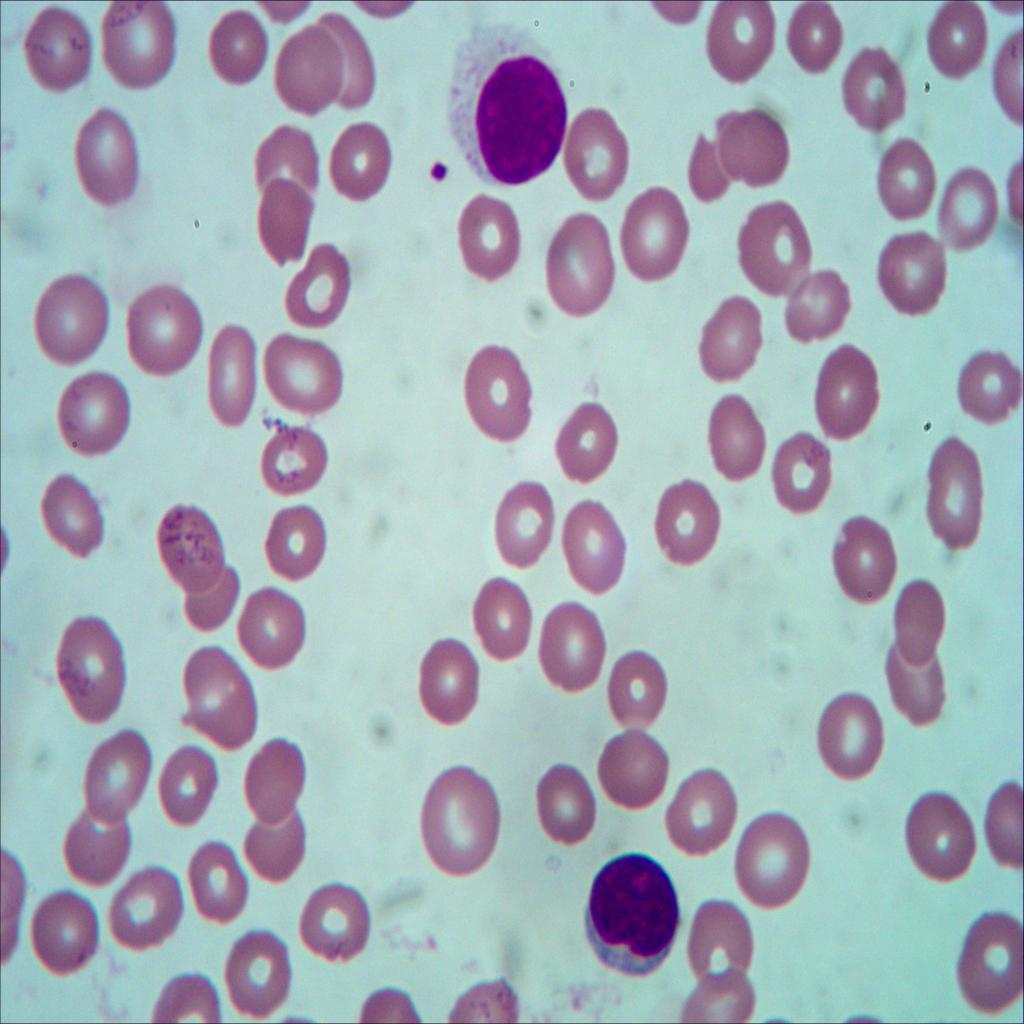Eritrosit: (412, 768, 511, 878), (726, 189, 812, 303), (540, 206, 617, 333), (917, 428, 989, 558), (56, 603, 130, 728), (127, 260, 199, 387), (820, 503, 905, 609), (805, 338, 887, 447), (62, 104, 144, 212), (620, 182, 699, 292), (684, 289, 770, 390), (646, 466, 722, 579), (858, 130, 949, 224), (875, 217, 958, 319), (262, 324, 350, 420), (185, 641, 258, 755), (899, 785, 979, 888), (590, 722, 672, 822), (92, 2, 183, 92), (737, 814, 815, 918), (813, 687, 886, 796), (534, 594, 613, 694), (411, 634, 480, 747), (464, 343, 537, 449), (18, 0, 100, 94), (28, 276, 114, 365), (832, 38, 918, 127), (102, 861, 183, 955), (204, 310, 259, 446), (220, 926, 296, 1024), (959, 902, 1024, 1016), (306, 6, 374, 114), (776, 256, 849, 356), (562, 104, 636, 202), (719, 108, 799, 198), (464, 577, 538, 674), (228, 593, 312, 676), (686, 888, 756, 986), (33, 886, 101, 986), (65, 366, 127, 474), (934, 170, 1008, 260), (298, 880, 372, 969), (598, 642, 672, 731), (80, 722, 150, 816), (531, 755, 598, 853), (557, 390, 623, 488), (674, 766, 743, 859), (493, 474, 555, 577), (240, 733, 308, 826), (250, 173, 320, 263), (455, 194, 525, 284), (705, 0, 768, 100), (561, 500, 628, 594), (197, 10, 276, 89), (159, 496, 222, 594), (188, 843, 260, 928), (704, 385, 771, 476), (68, 801, 130, 899), (922, 0, 990, 89), (954, 350, 1024, 436), (888, 639, 952, 733), (284, 246, 353, 331), (253, 423, 328, 501), (160, 736, 225, 826), (238, 809, 314, 885), (333, 122, 398, 210), (265, 503, 333, 585), (40, 471, 106, 555), (276, 22, 338, 111), (773, 433, 838, 514), (682, 959, 760, 1024), (896, 574, 948, 671), (976, 770, 1024, 874), (253, 119, 318, 195), (787, 0, 847, 79), (694, 104, 742, 194), (185, 557, 232, 623)
Limfosit: (450, 28, 573, 192), (571, 847, 681, 994)
Platelet: (418, 152, 452, 194)
